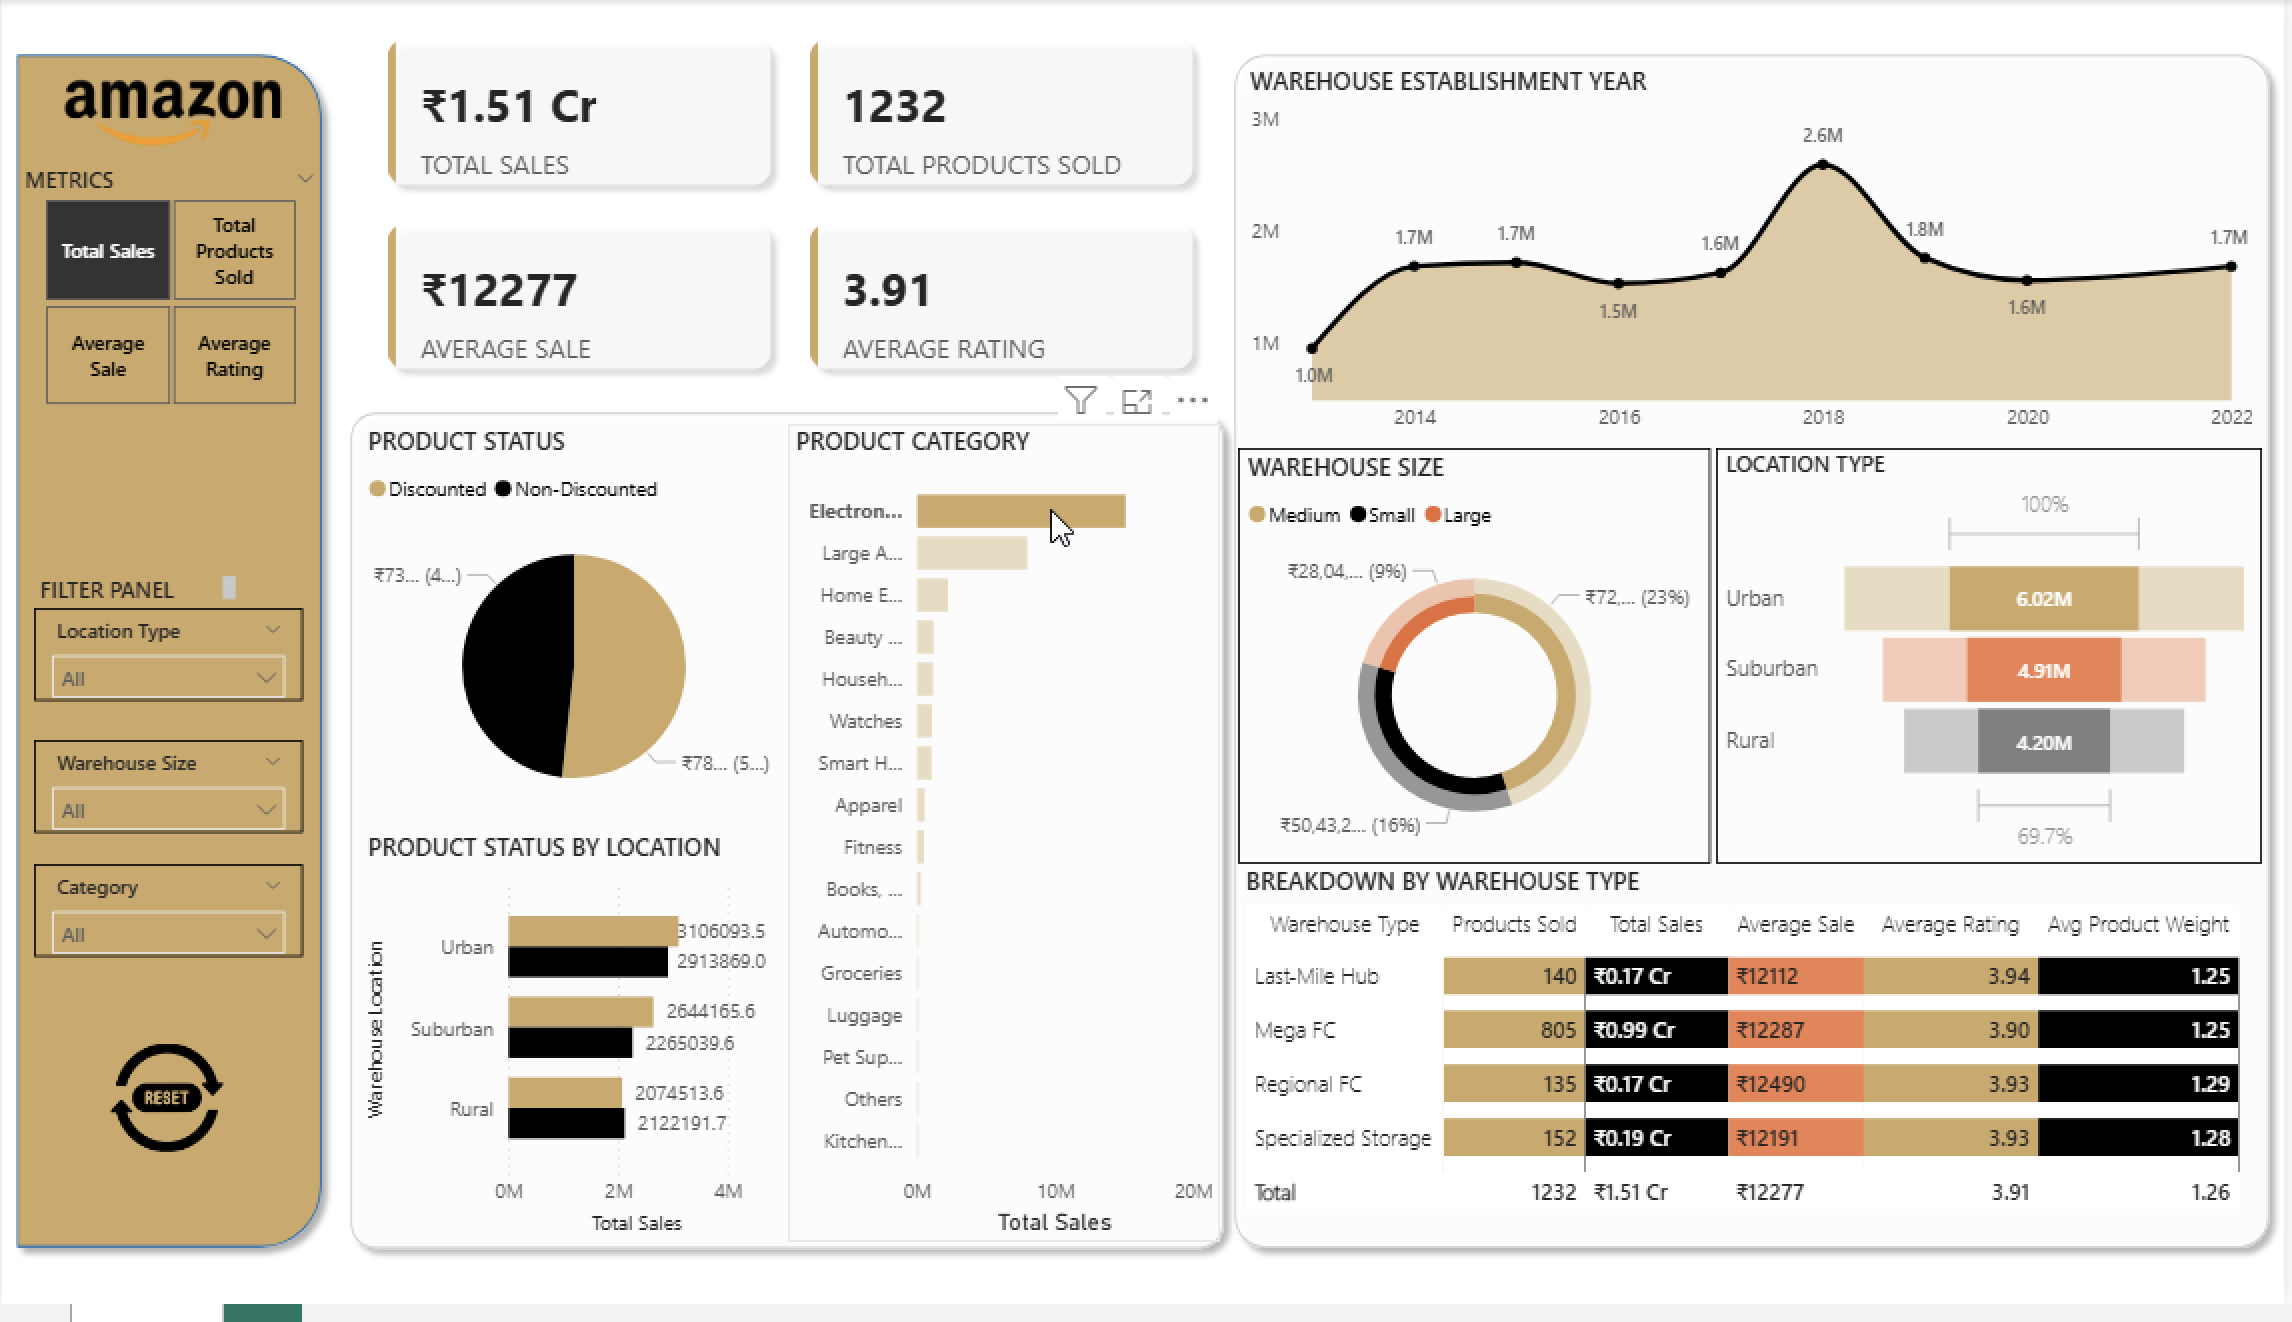

The page's visual inventory and layout, read from the dashboard file:
{"tool":"powerbi","page":{"name":"Page 1","canvas":[1400,800],"ordinal":0},"visuals":[{"type":"shape","box":[0,24.9,205,749.7],"z":0},{"type":"image","box":[0,39.6,205.1,58],"z":1000},{"type":"cardVisual","fields":{"Data":["Sheet 1 - FINAL FILE.Total Sales","Sheet 1 - FINAL FILE.Total Products Sold","Sheet 1 - FINAL FILE.Average Sale","Sheet 1 - FINAL FILE.Average Rating"]},"box":[219.3,6.8,528,236.9],"z":2000},{"type":"shape","box":[204.4,243.7,553.8,530.8],"z":3000},{"type":"pieChart","title":"PRODUCT STATUS","fields":{"Y":["Sheet 1 - FINAL FILE.Overall Sales"],"Category":["Sheet 1 - FINAL FILE.Product Status"]},"box":[219.3,260,262.7,249.1],"z":4000},{"type":"slicer","fields":{"Values":["Metrics.Metrics"]},"box":[1.4,97.5,203.1,158.4],"z":5000},{"type":"clusteredBarChart","title":"PRODUCT STATUS BY LOCATION","fields":{"Y":["Sheet 1 - FINAL FILE.Overall Sales"],"Category":["Sheet 1 - FINAL FILE.Warehouse Location"],"Series":["Sheet 1 - FINAL FILE.Product Status"]},"box":[219.3,509.1,262.7,253.2],"z":6000},{"type":"barChart","title":"PRODUCT CATEGORY","fields":{"Y":["Sheet 1 - FINAL FILE.Overall Sales"],"Category":["Sheet 1 - FINAL FILE.Category"]},"box":[482,260,265.4,502.3],"z":7000},{"type":"shape","box":[747.4,24.4,652.6,750.1],"z":8000},{"type":"lineChart","title":"WAREHOUSE ESTABLISHMENT YEAR","fields":{"Y":["Sheet 1 - FINAL FILE.Overall Sales"],"Category":["Sheet 1 - FINAL FILE.Warehouse Establishment Year"]},"box":[761,39.2,625,235.4],"z":9000},{"type":"donutChart","title":"WAREHOUSE SIZE","fields":{"Y":["Sheet 1 - FINAL FILE.Overall Sales"],"Category":["Sheet 1 - FINAL FILE.Warehouse Size"]},"box":[758.2,274.7,290.1,255.1],"z":10000},{"type":"funnel","title":"LOCATION TYPE","fields":{"Category":["Sheet 1 - FINAL FILE.Warehouse Location"],"Y":["Sheet 1 - FINAL FILE.Overall Sales"]},"box":[1051.1,274.7,334.9,255.1],"z":11000},{"type":"pivotTable","title":"BREAKDOWN BY WAREHOUSE TYPE","fields":{"Rows":["Sheet 1 - FINAL FILE.Warehouse Type"],"Values":["Sheet 1 - FINAL FILE.Products Sold","Sheet 1 - FINAL FILE.Total Sales","Sheet 1 - FINAL FILE.Average Sale","Sheet 1 - FINAL FILE.Average Rating","Avg(Sheet 1 - FINAL FILE.Product Weight)"]},"box":[758.2,529.7,626.4,232.6],"z":12000},{"type":"slicer","fields":{"Values":["Sheet 1 - FINAL FILE.Warehouse Location"]},"box":[19.6,372.8,165.4,57.5],"z":13000},{"type":"slicer","fields":{"Values":["Sheet 1 - FINAL FILE.Warehouse Size"]},"box":[19.6,454.1,165.4,57.5],"z":14000},{"type":"slicer","fields":{"Values":["Sheet 1 - FINAL FILE.Category"]},"box":[19.6,529.7,165.4,57.5],"z":15000},{"type":"textbox","box":[19,348,130,24.4],"z":16000},{"type":"image","box":[58.8,635.1,84.8,76.1],"z":17000}]}

Visuals, with their boxes in screenshot pixels (x1, y1, x2, y2), scaled from the page's 1400x800 canvas onto the 2292x1322 screenshot:
shape: select_region(0, 41, 336, 1280)
image: select_region(0, 65, 336, 161)
cardVisual - Sheet 1 - FINAL FILE.Total Sales x Sheet 1 - FINAL FILE.Total Products Sold: select_region(359, 11, 1223, 403)
shape: select_region(335, 403, 1241, 1280)
"PRODUCT STATUS" pieChart: select_region(359, 430, 789, 841)
slicer - Metrics.Metrics: select_region(2, 161, 335, 423)
"PRODUCT STATUS BY LOCATION" clusteredBarChart: select_region(359, 841, 789, 1260)
"PRODUCT CATEGORY" barChart: select_region(789, 430, 1224, 1260)
shape: select_region(1224, 40, 2291, 1280)
"WAREHOUSE ESTABLISHMENT YEAR" lineChart: select_region(1246, 65, 2269, 454)
"WAREHOUSE SIZE" donutChart: select_region(1241, 454, 1716, 875)
"LOCATION TYPE" funnel: select_region(1721, 454, 2269, 875)
"BREAKDOWN BY WAREHOUSE TYPE" pivotTable: select_region(1241, 875, 2267, 1260)
slicer - Sheet 1 - FINAL FILE.Warehouse Location: select_region(32, 616, 303, 711)
slicer - Sheet 1 - FINAL FILE.Warehouse Size: select_region(32, 750, 303, 845)
slicer - Sheet 1 - FINAL FILE.Category: select_region(32, 875, 303, 970)
textbox: select_region(31, 575, 244, 615)
image: select_region(96, 1050, 235, 1175)
